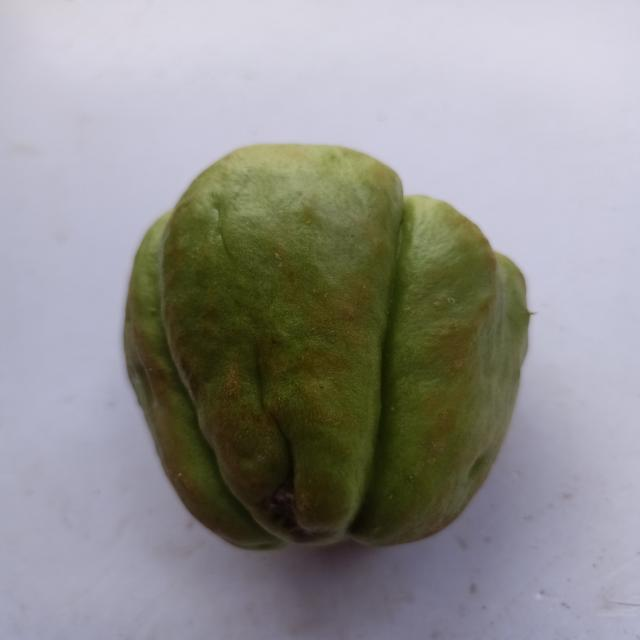Chayote: (103, 114, 558, 572)
